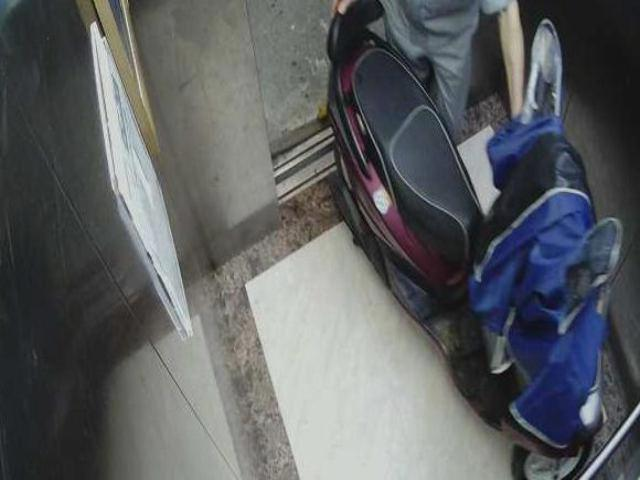emotor: (299, 22, 616, 416)
